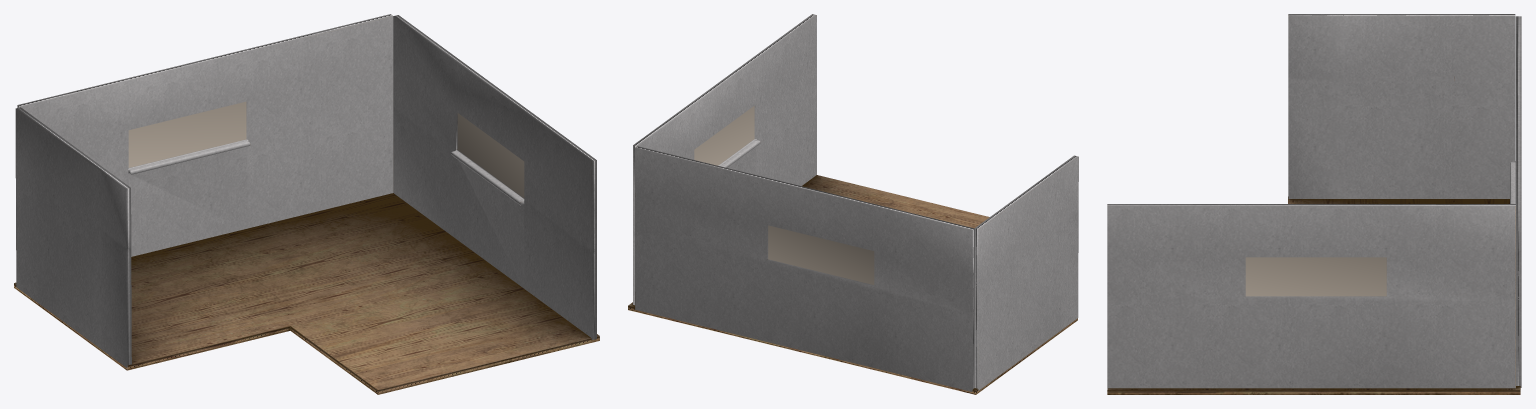
The model's file is room.glb.
The picture shows the model from 3 angles, left to right: view 1: azimuth 30°, elevation 25°; view 2: azimuth 150°, elevation 25°; view 3: azimuth 270°, elevation 25°; orthographic projection. The views are drawn at different scales.
Visible parts, largest first — view 1: Object_2; view 2: Object_2; view 3: Object_2.
Boxes of the visible parts, x1,y1,x2,y2 form: Object_2: (14,14,599,394); Object_2: (628,14,1078,394); Object_2: (1107,14,1521,394).
Size of the model in its own units: 380 by 171 by 343.
Materials: 1 (1 with a texture image).
